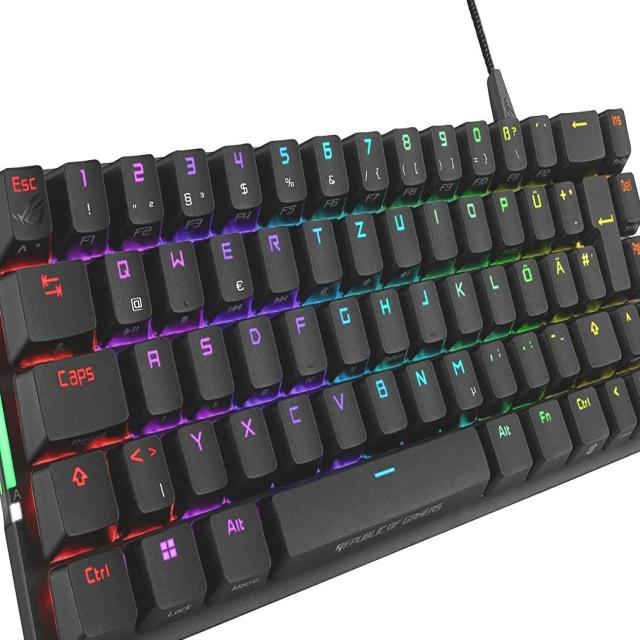0: (464, 120, 496, 179)
1: (60, 158, 111, 233)
2: (119, 153, 164, 227)
3: (171, 148, 215, 220)
4: (222, 142, 261, 211)
5: (267, 138, 306, 204)
6: (311, 134, 349, 198)
7: (355, 129, 388, 192)
8: (392, 126, 426, 190)
9: (429, 124, 462, 184)
a: (135, 334, 184, 414)
accent: (528, 113, 558, 168)
ae: (546, 248, 577, 312)
alt-left: (208, 498, 271, 582)
altgr-right: (484, 410, 534, 475)
b: (366, 366, 408, 433)
c: (278, 391, 323, 463)
caret: (615, 301, 640, 358)
comma: (478, 336, 518, 396)
d: (238, 312, 284, 388)
del: (559, 109, 607, 163)
e: (210, 230, 254, 302)
enter: (582, 170, 632, 294)
f: (284, 302, 328, 375)
g: (327, 294, 371, 367)
h: (371, 284, 410, 354)
hash: (576, 245, 607, 303)
i: (424, 197, 458, 261)
j: (409, 275, 447, 344)
k: (447, 269, 483, 333)
keyboard: (0, 92, 640, 640)
l: (482, 261, 516, 325)
less: (122, 431, 176, 516)
m: (443, 346, 484, 408)
minus: (543, 319, 581, 377)
n: (405, 356, 447, 420)
o: (459, 193, 492, 253)
oe: (516, 253, 548, 317)
p: (492, 188, 525, 247)
plus: (553, 178, 584, 238)
point: (511, 327, 550, 387)
q: (102, 248, 153, 324)
r: (260, 223, 299, 293)
s: (187, 321, 235, 400)
shift-left: (47, 448, 120, 537)
shift-lock: (28, 348, 134, 441)
shift-right: (574, 309, 622, 366)
space: (269, 418, 489, 558)
ss: (498, 116, 527, 174)
strg-left: (62, 541, 137, 640)
strg-right: (565, 384, 608, 448)
t: (303, 218, 342, 284)
tab: (14, 254, 98, 346)
u: (388, 204, 421, 266)
ue: (523, 184, 555, 242)
v: (324, 380, 367, 447)
w: (159, 238, 204, 312)
x: (229, 403, 278, 477)
y: (177, 416, 229, 494)
z: (345, 211, 383, 275)
